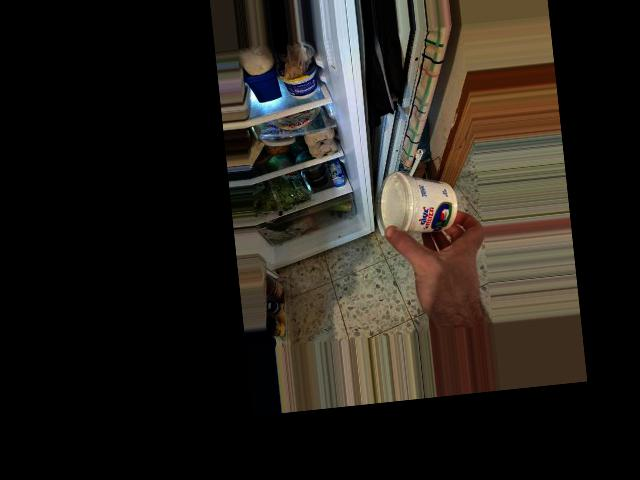cotage: (373, 163, 463, 249)
